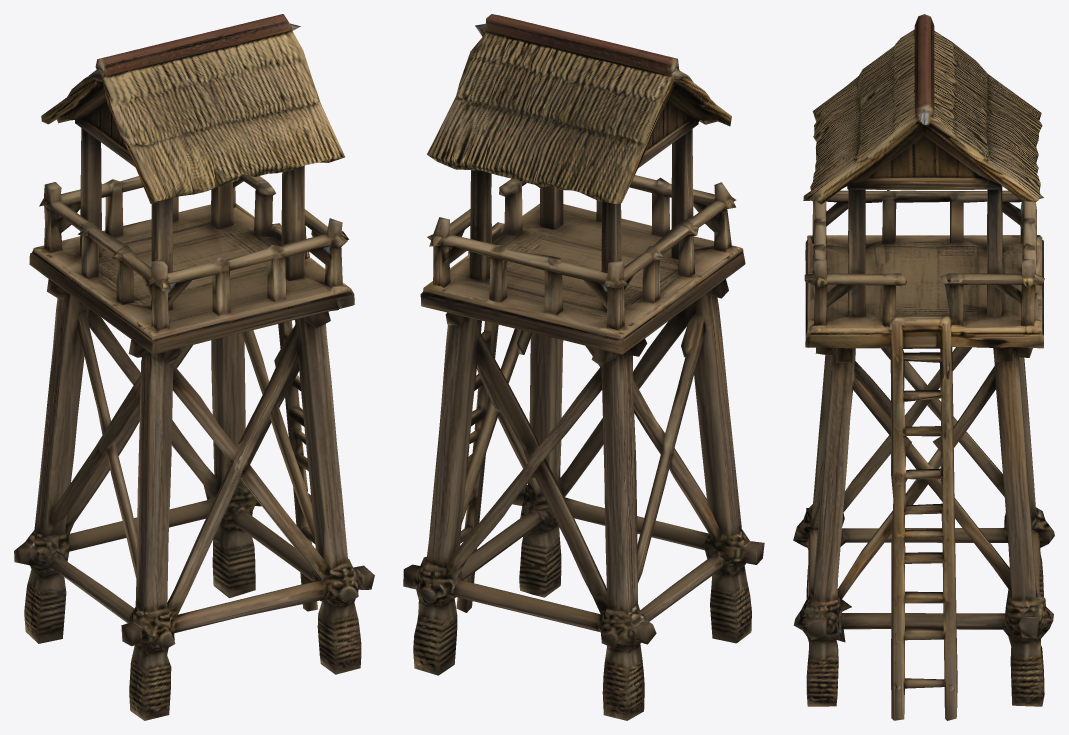
Rendered from tower.glb.
The picture shows the model from 3 angles, left to right: view 1: azimuth 30°, elevation 25°; view 2: azimuth 150°, elevation 25°; view 3: azimuth 270°, elevation 25°; orthographic projection. The views are drawn at different scales.
Visible parts, largest first — view 1: tripo_node_45bbf87d-12ab-4926-a18d-c4e56c81bb62; view 2: tripo_node_45bbf87d-12ab-4926-a18d-c4e56c81bb62; view 3: tripo_node_45bbf87d-12ab-4926-a18d-c4e56c81bb62.
Boxes of the visible parts, x1=… form: tripo_node_45bbf87d-12ab-4926-a18d-c4e56c81bb62: x1=14, y1=14, x2=374, y2=720; tripo_node_45bbf87d-12ab-4926-a18d-c4e56c81bb62: x1=403, y1=14, x2=764, y2=720; tripo_node_45bbf87d-12ab-4926-a18d-c4e56c81bb62: x1=793, y1=14, x2=1054, y2=720.
Size of the model in its own units: 0.4411 by 1 by 0.3959.
1 material, 1 textured.
